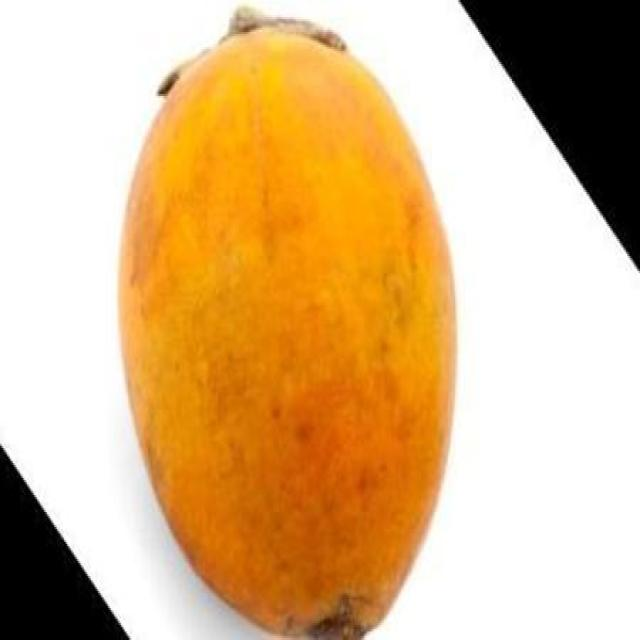good: (115, 26, 459, 638)
